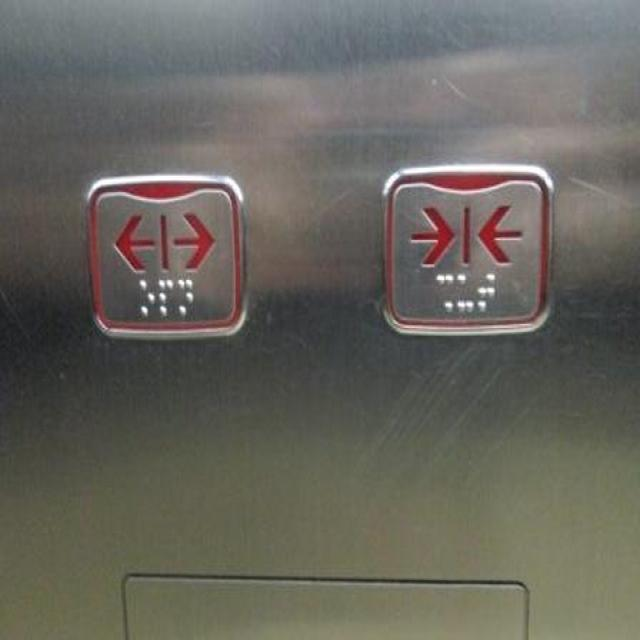close: (379, 161, 556, 340)
open: (81, 170, 251, 346)
